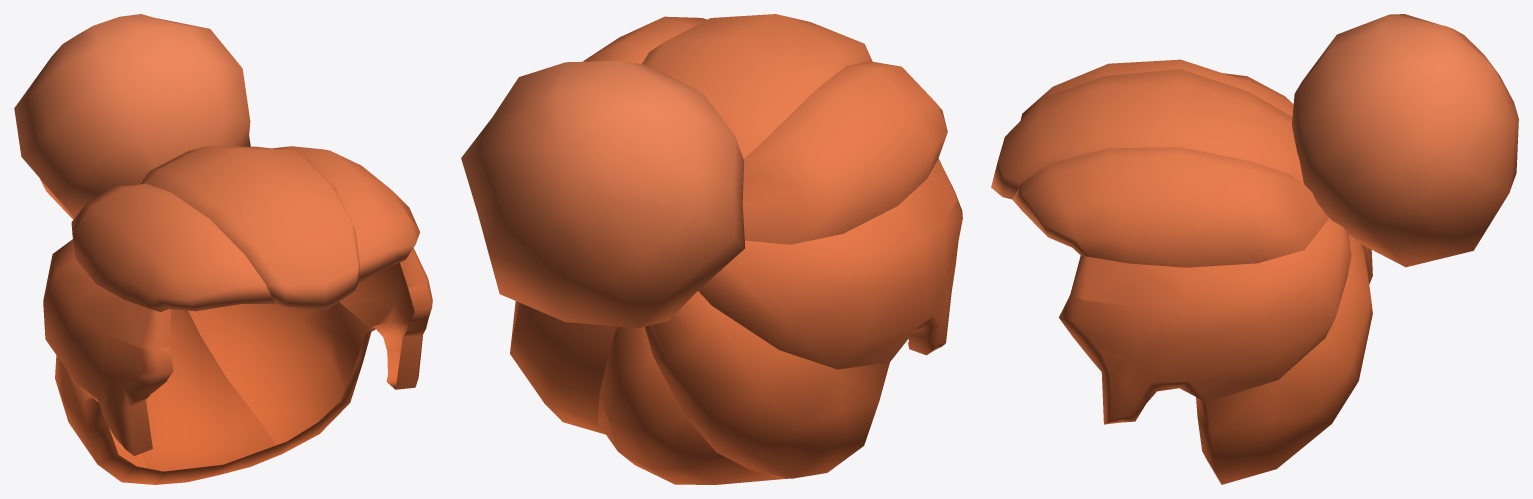
The model's file is Hair_22.fbx.
The picture shows the model from 3 angles, left to right: view 1: azimuth 30°, elevation 25°; view 2: azimuth 150°, elevation 25°; view 3: azimuth 270°, elevation 25°; orthographic projection. The views are drawn at different scales.
Parts seen in each view (by area): view 1: Hair_22; view 2: Hair_22; view 3: Hair_22.
Part boxes in pixels (x1,y1,x2,y2): Hair_22: [14, 14, 432, 484]; Hair_22: [461, 14, 962, 484]; Hair_22: [991, 14, 1518, 484].
Bounding box in the file's own units: 56.44 × 62.96 × 70.86.
